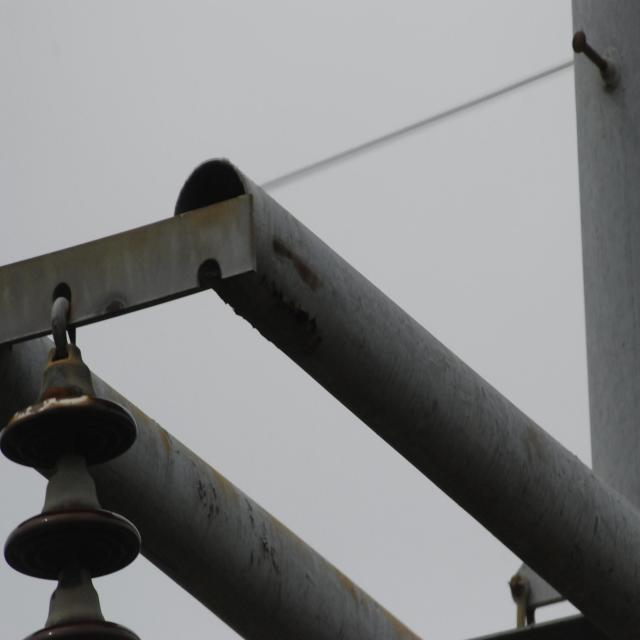insulator: (1, 393, 146, 635)
